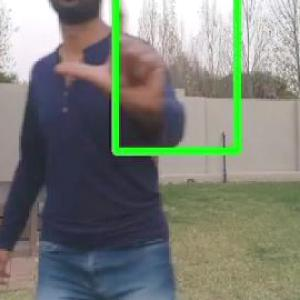land_hand: (50, 0, 173, 122)
